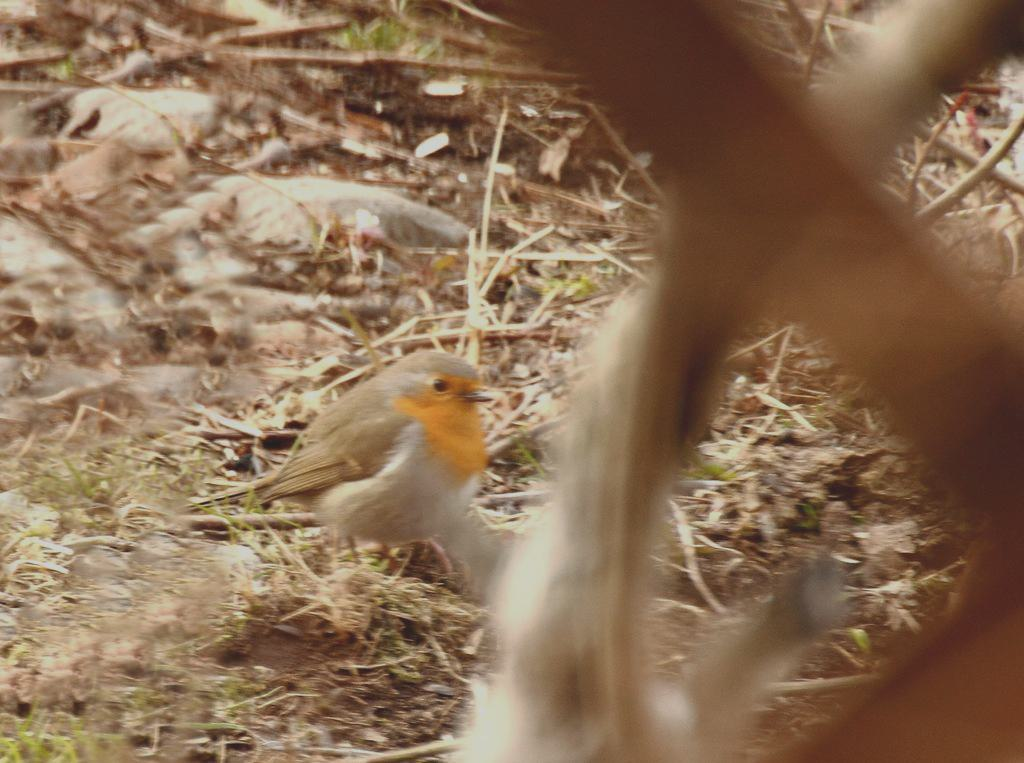ErithacusRubecula: (184, 349, 494, 566)
